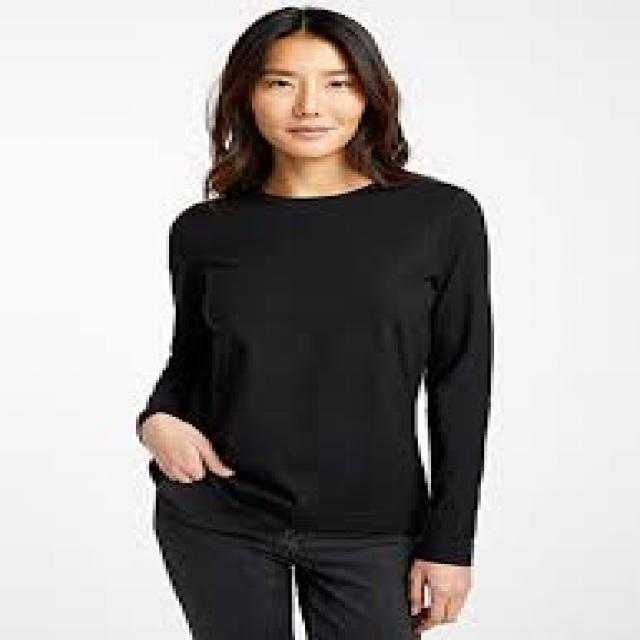plain: (149, 180, 499, 564)
